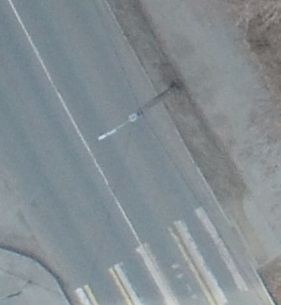opora: (98, 83, 181, 141)
